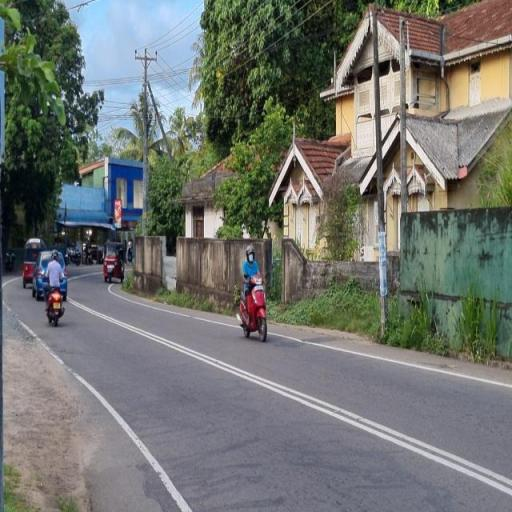double_white_line: (150, 320, 508, 499)
